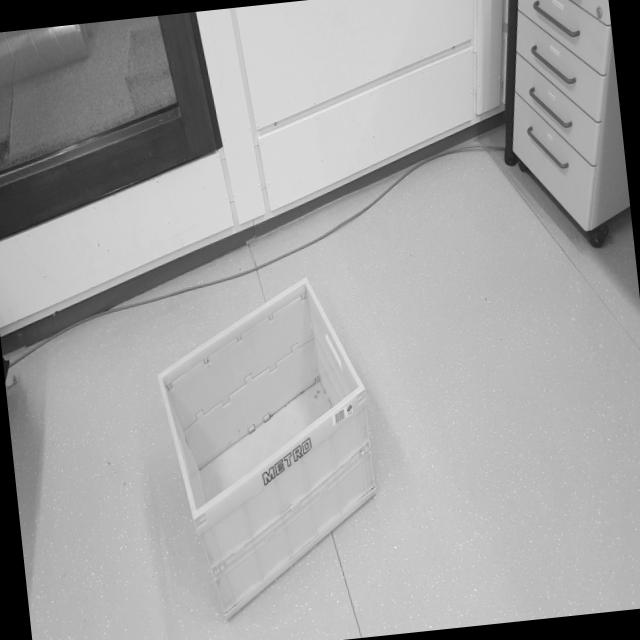box: (140, 266, 392, 631)
